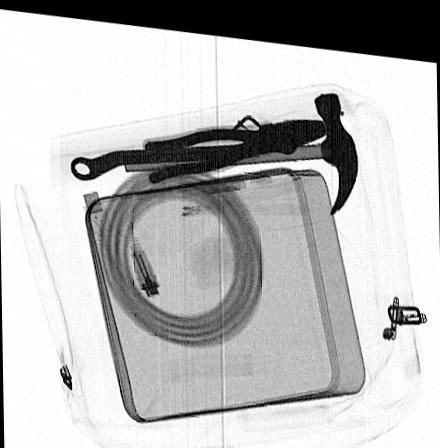Hammer: (125, 82, 354, 207)
Pliers: (137, 103, 331, 181)
Wrench: (70, 116, 297, 180)
